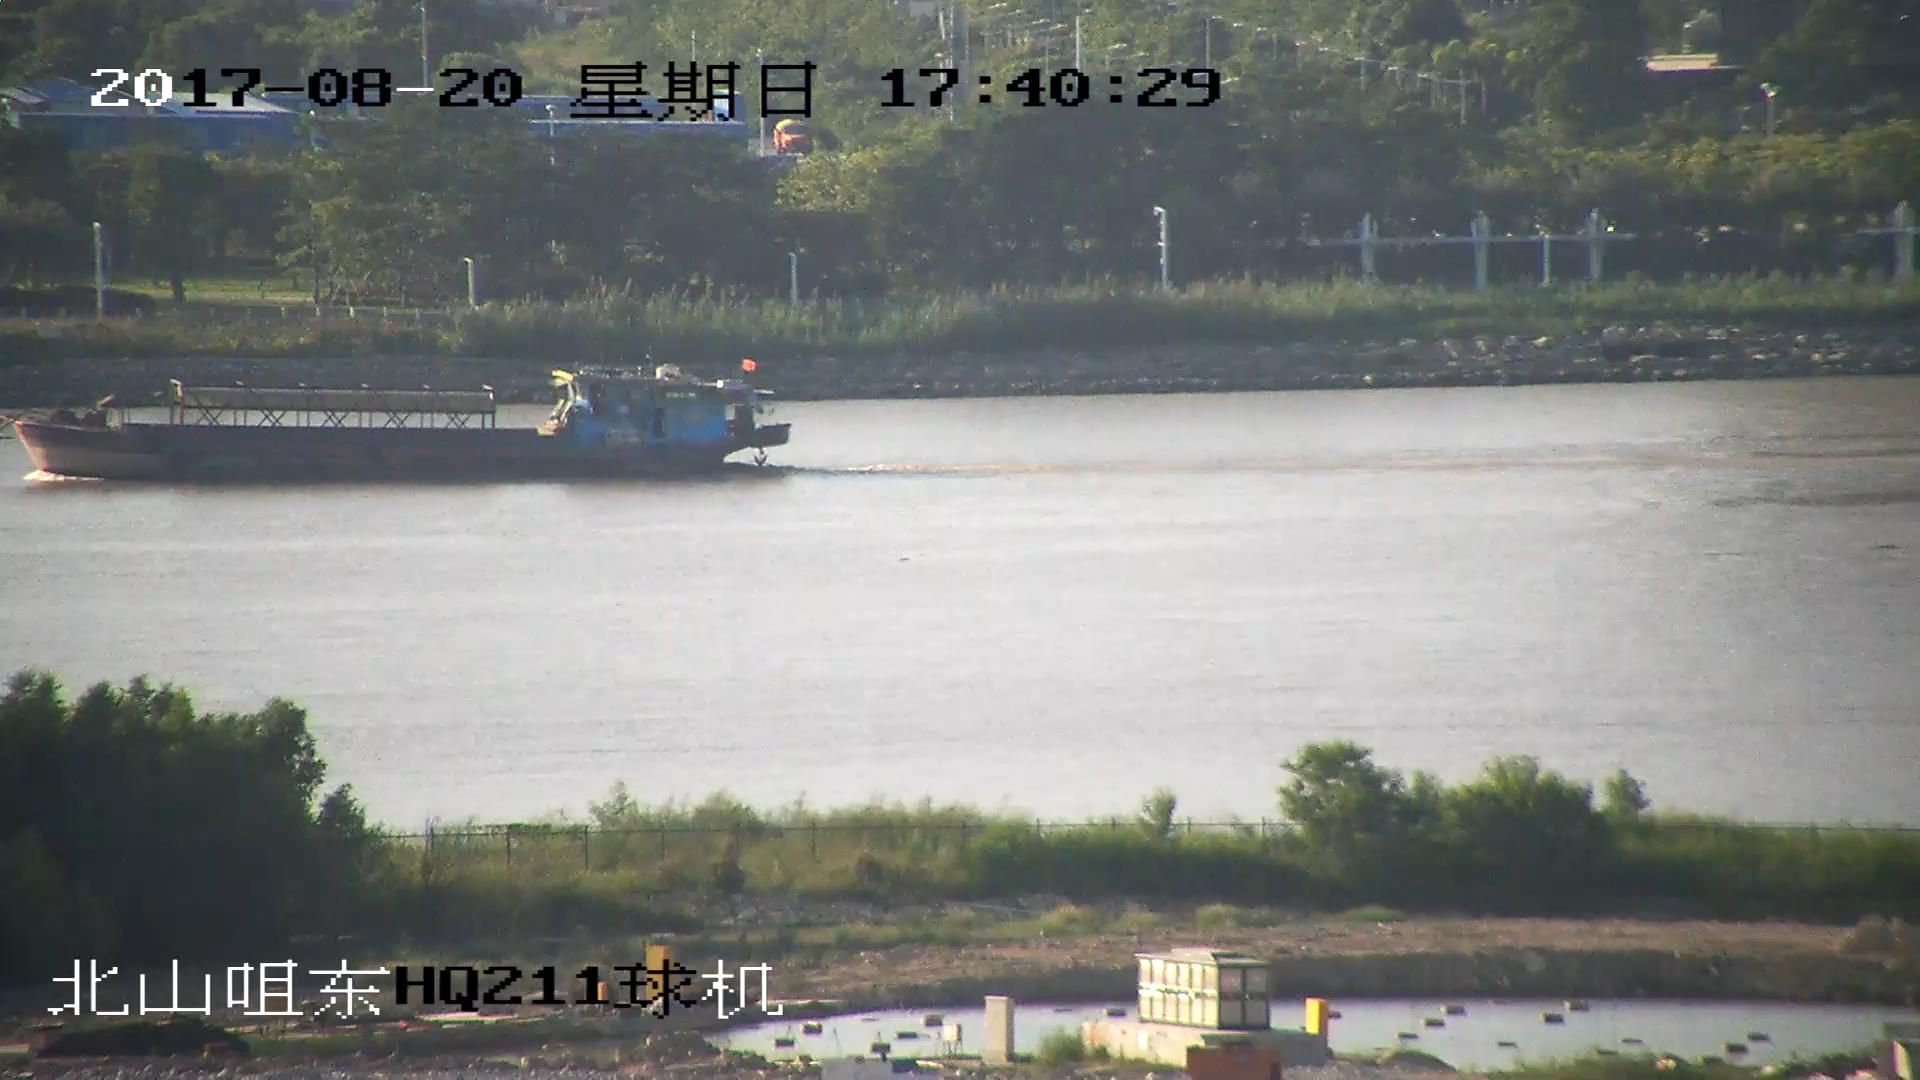fishing boat: (1, 362, 790, 482)
